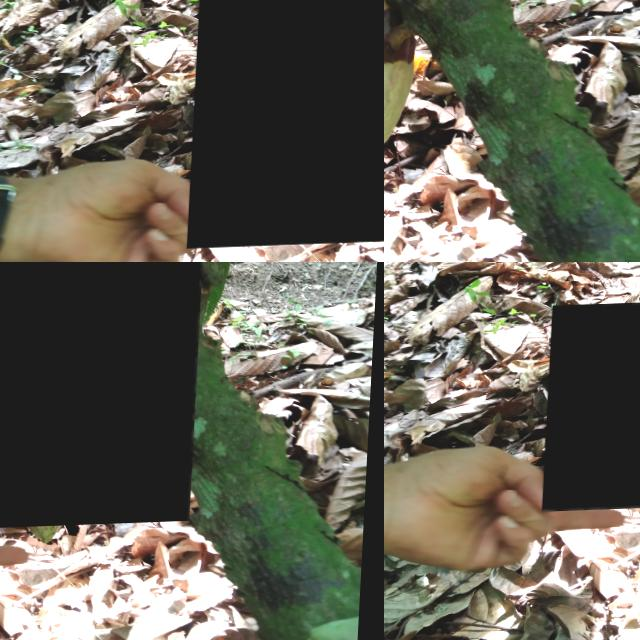Fitoftora: (0, 262, 208, 534), (547, 302, 640, 513)
Monilia: (192, 0, 384, 249)
